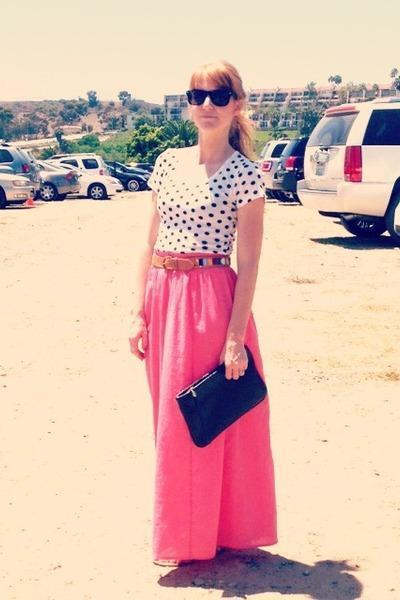bag: (180, 348, 266, 447)
shirt: (146, 145, 277, 272)
skirt: (129, 252, 276, 563)
sunglass: (186, 76, 237, 106)
